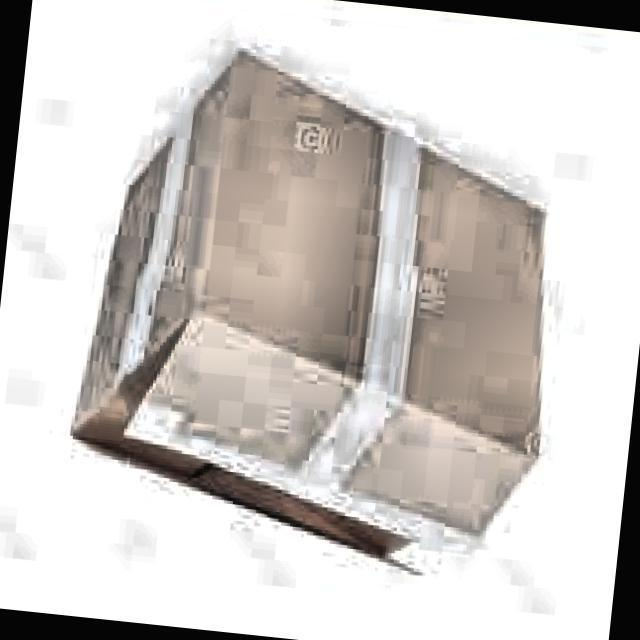cardboard: (56, 37, 576, 589)
